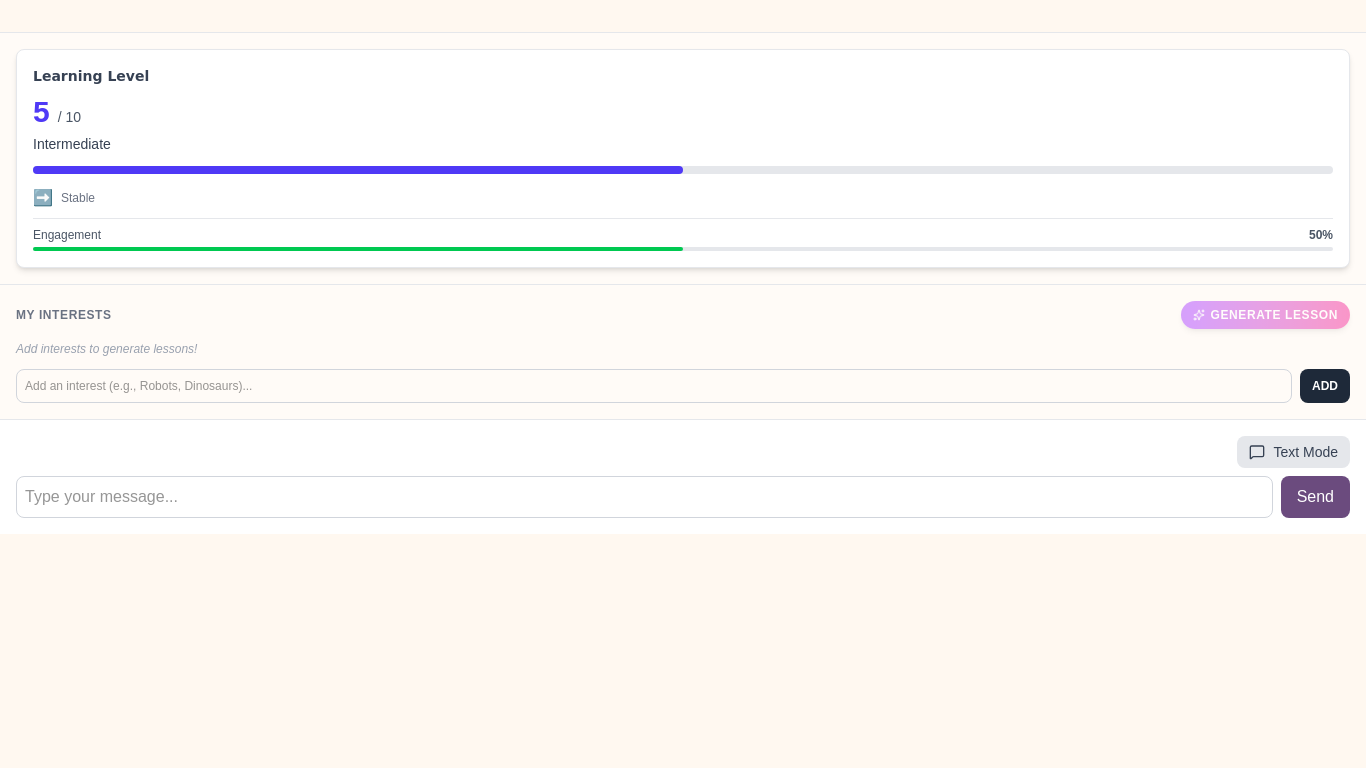
Scenario: ConversationUI › sends user message and displays AI response
In the field with placeholder "Type your message...": (644, 497) [16,476,1273,518], type "Hi"
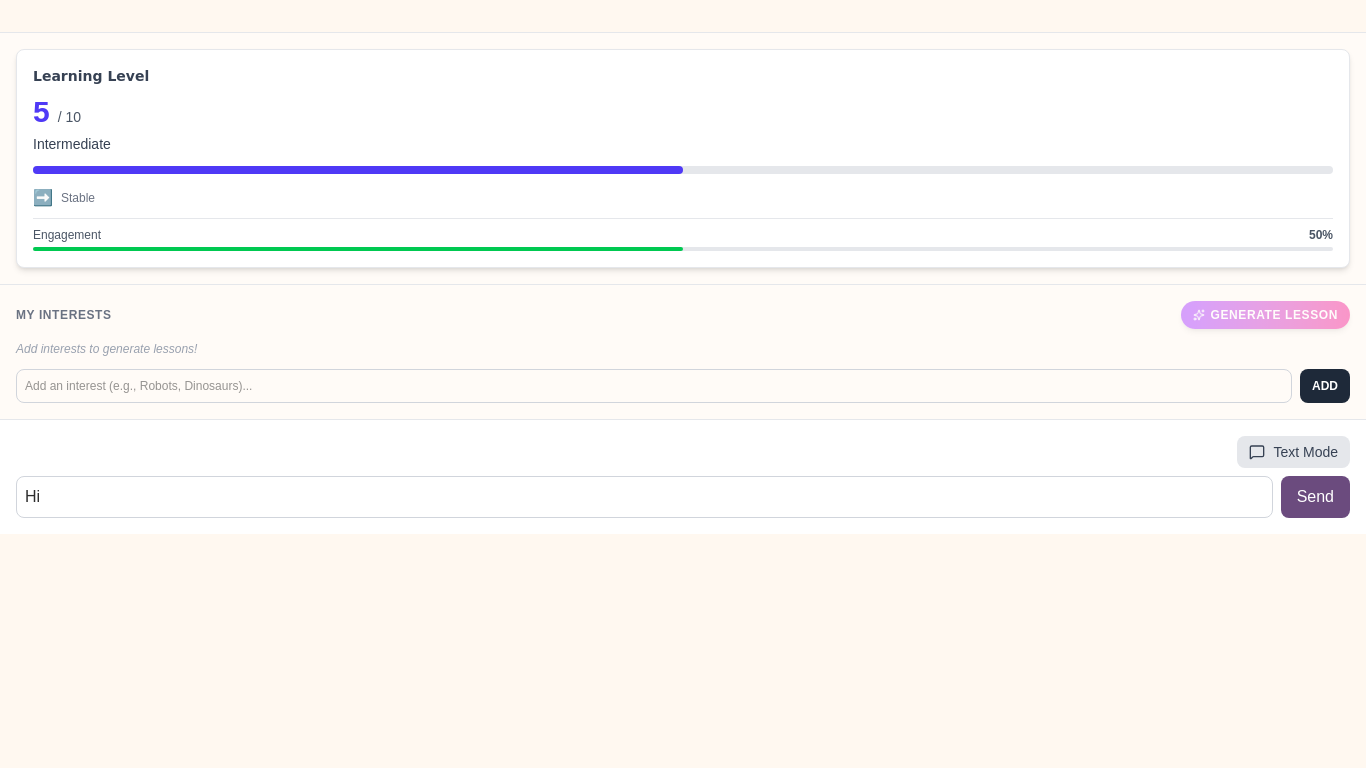
Click the button "Send": (1315, 497) [1281,476,1350,518]
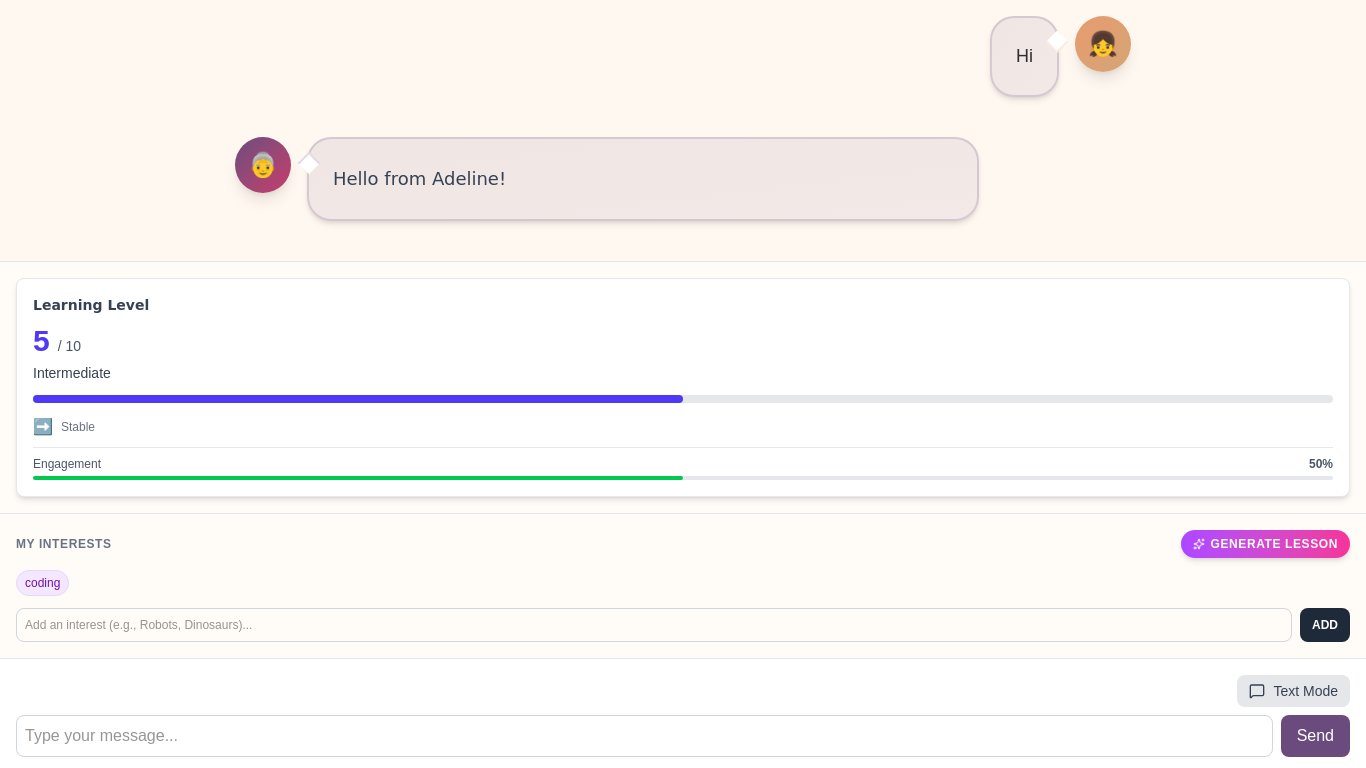
Result: the text "Hello from Adeline!" is shown at [333,168,506,189]
